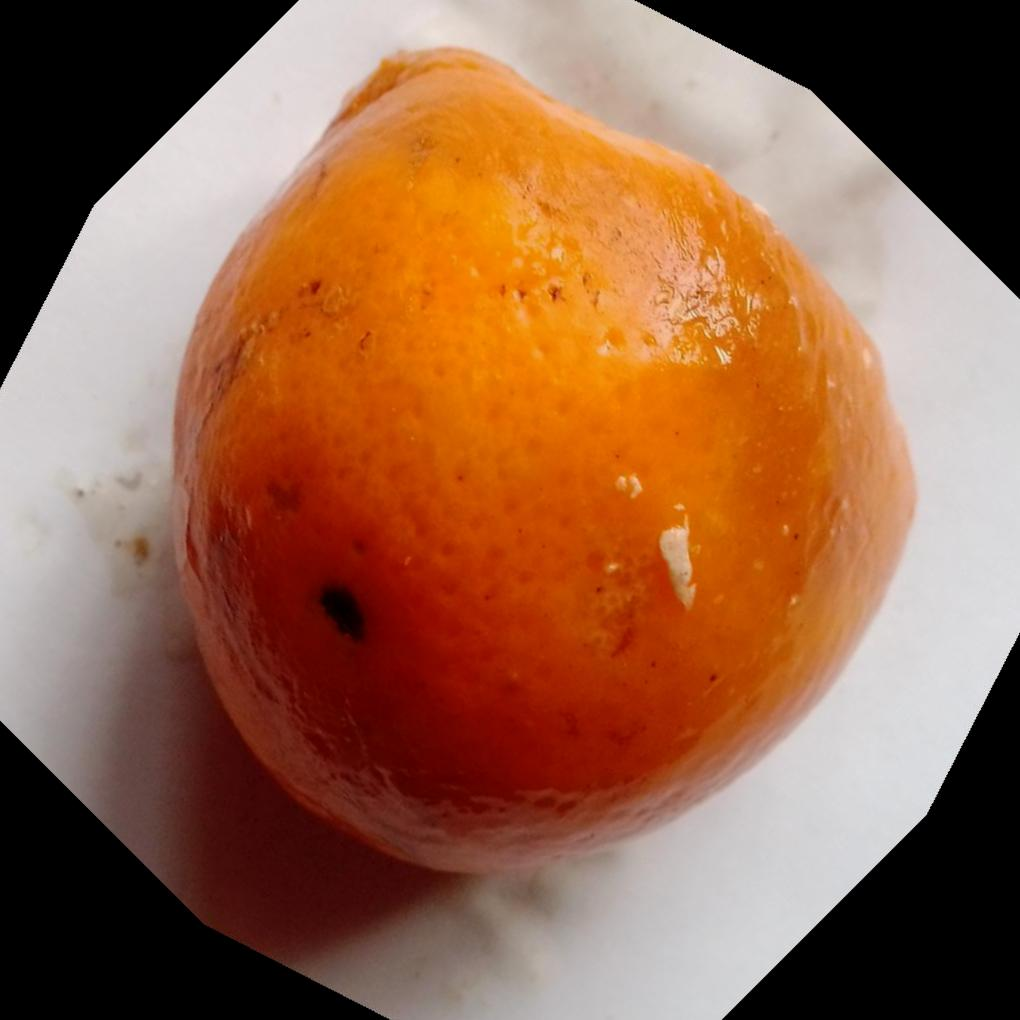FreshOrange: (170, 45, 922, 881)
